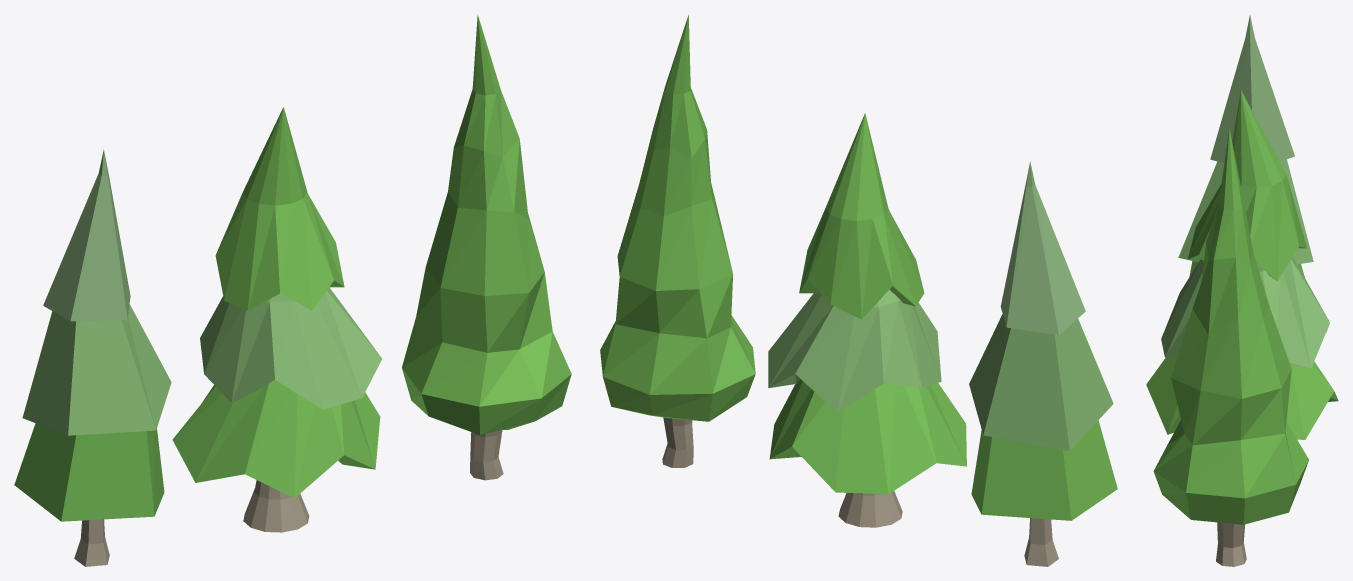
The model's file is trees.fbx.
3 renders of one model, left to right at view 1: azimuth 30°, elevation 25°; view 2: azimuth 150°, elevation 25°; view 3: azimuth 270°, elevation 25°, orthographic. The views are drawn at different scales.
Visible parts, largest first — view 1: Spruce_B, Spruce_A, Spruce_C; view 2: Spruce_B, Spruce_A, Spruce_C; view 3: Spruce_A, Spruce_B, Spruce_C.
Boxes of the visible parts, x1,y1,x2,y2 form: Spruce_B: [172, 107, 381, 532]; Spruce_A: [402, 14, 571, 480]; Spruce_C: [14, 149, 171, 566]; Spruce_B: [768, 113, 966, 527]; Spruce_A: [600, 15, 755, 467]; Spruce_C: [969, 161, 1117, 566]; Spruce_A: [1153, 128, 1308, 566]; Spruce_B: [1146, 90, 1338, 439]; Spruce_C: [1178, 14, 1313, 277].
Bounding box in the file's own units: 422 × 365 × 149.
